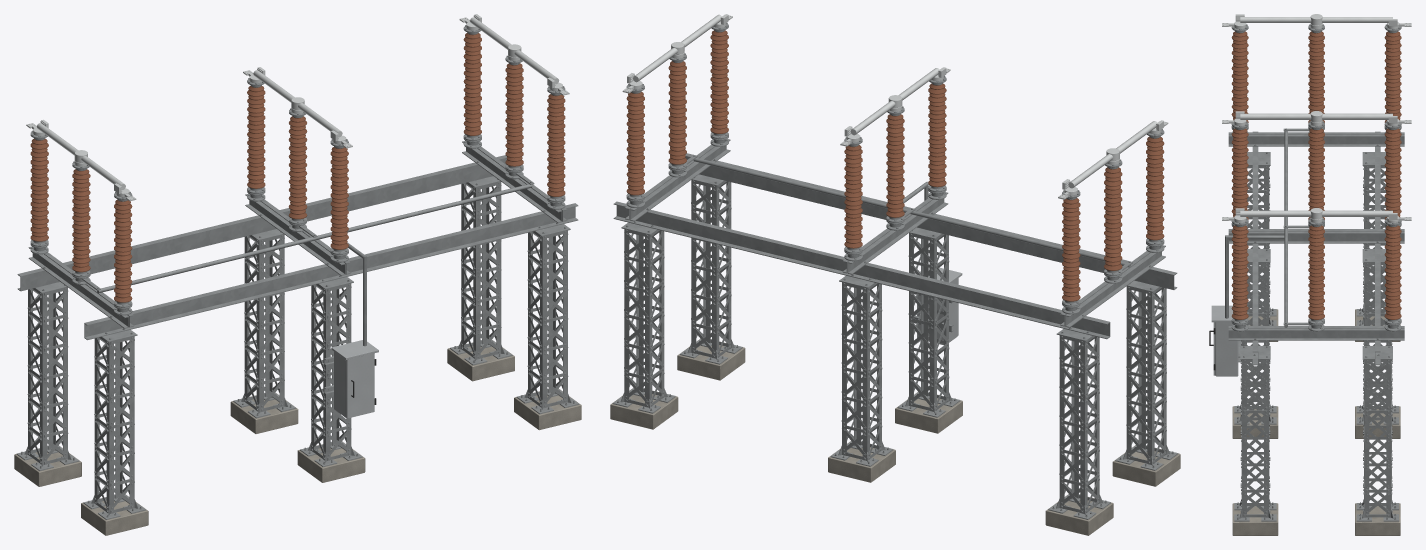
Rendered from Disconnector_DoubleBreak_138kV.fbx.
3 renders of one model, left to right at view 1: azimuth 30°, elevation 25°; view 2: azimuth 150°, elevation 25°; view 3: azimuth 270°, elevation 25°, orthographic. The views are drawn at different scales.
Visible parts, largest first — view 1: Body_GalvanizedSteel_LOD0, Body_PorcelainBrown_LOD0, Body_Concrete_LOD0, ControlCabinet_Door_LOD0, Body_CoatedSteel_LOD0, Body_Aluminium_LOD0, Blade_3_LOD0, Blade_2_LOD0, Blade_1_LOD0; view 2: Body_GalvanizedSteel_LOD0, Body_PorcelainBrown_LOD0, Body_Concrete_LOD0, Body_Aluminium_LOD0, Blade_2_LOD0, Blade_1_LOD0, Blade_3_LOD0, Body_CoatedSteel_LOD0; view 3: Body_GalvanizedSteel_LOD0, Body_PorcelainBrown_LOD0, Body_Concrete_LOD0, Body_CoatedSteel_LOD0, Body_Aluminium_LOD0, Blade_2_LOD0, Blade_3_LOD0, Blade_1_LOD0.
Boxes of the visible parts, x1,y1,x2,y2 form: Body_GalvanizedSteel_LOD0: (16, 25, 579, 519); Body_PorcelainBrown_LOD0: (30, 33, 565, 302); Body_Concrete_LOD0: (14, 340, 581, 535); ControlCabinet_Door_LOD0: (346, 353, 374, 418); Body_CoatedSteel_LOD0: (331, 340, 378, 417); Body_Aluminium_LOD0: (26, 14, 569, 201); Blade_3_LOD0: (470, 17, 559, 84); Blade_2_LOD0: (253, 70, 342, 137); Blade_1_LOD0: (37, 123, 125, 189); Body_GalvanizedSteel_LOD0: (612, 22, 1178, 519); Body_PorcelainBrown_LOD0: (626, 30, 1164, 301); Body_Concrete_LOD0: (610, 339, 1180, 535); Body_Aluminium_LOD0: (622, 14, 1168, 199); Blade_2_LOD0: (850, 68, 939, 135); Blade_1_LOD0: (1068, 121, 1157, 188); Blade_3_LOD0: (633, 14, 721, 82); Body_CoatedSteel_LOD0: (917, 267, 962, 345); Body_GalvanizedSteel_LOD0: (1225, 24, 1404, 521); Body_PorcelainBrown_LOD0: (1231, 31, 1401, 319); Body_Concrete_LOD0: (1232, 309, 1400, 535); Body_CoatedSteel_LOD0: (1211, 305, 1238, 376); Body_Aluminium_LOD0: (1222, 14, 1411, 222); Blade_2_LOD0: (1240, 111, 1392, 122); Blade_3_LOD0: (1240, 208, 1392, 219); Blade_1_LOD0: (1240, 14, 1392, 25).
Size of what is drawn, in the model's own units: 6.8 by 4.56 by 2.64.
